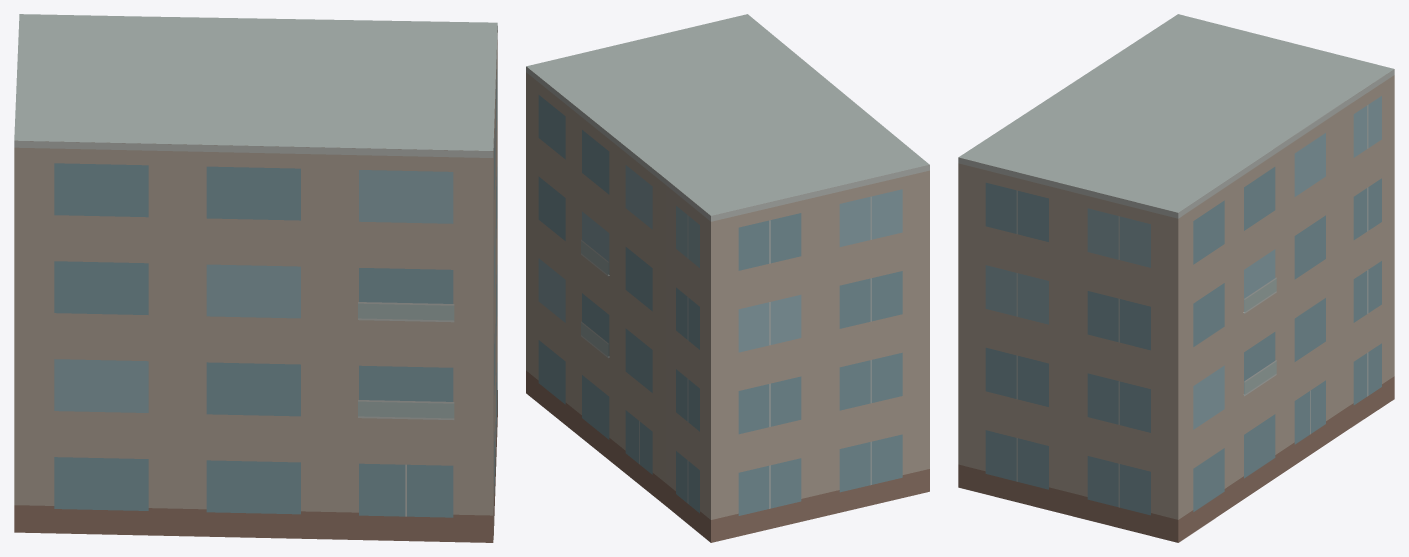
File: survey-upis-32799360.glb
3 renders of one model, left to right at view 1: azimuth 30°, elevation 25°; view 2: azimuth 150°, elevation 25°; view 3: azimuth 270°, elevation 25°, orthographic. The views are drawn at different scales.
Parts seen in each view (by area): view 1: survey-upis-32799360.tmp; view 2: survey-upis-32799360.tmp; view 3: survey-upis-32799360.tmp.
Boxes of the visible parts, <box> form: survey-upis-32799360.tmp: <box>14,14,497,542</box>; survey-upis-32799360.tmp: <box>526,14,929,542</box>; survey-upis-32799360.tmp: <box>958,14,1394,542</box>.
Size of the model in its own units: 17.62 by 13.63 by 16.34.
